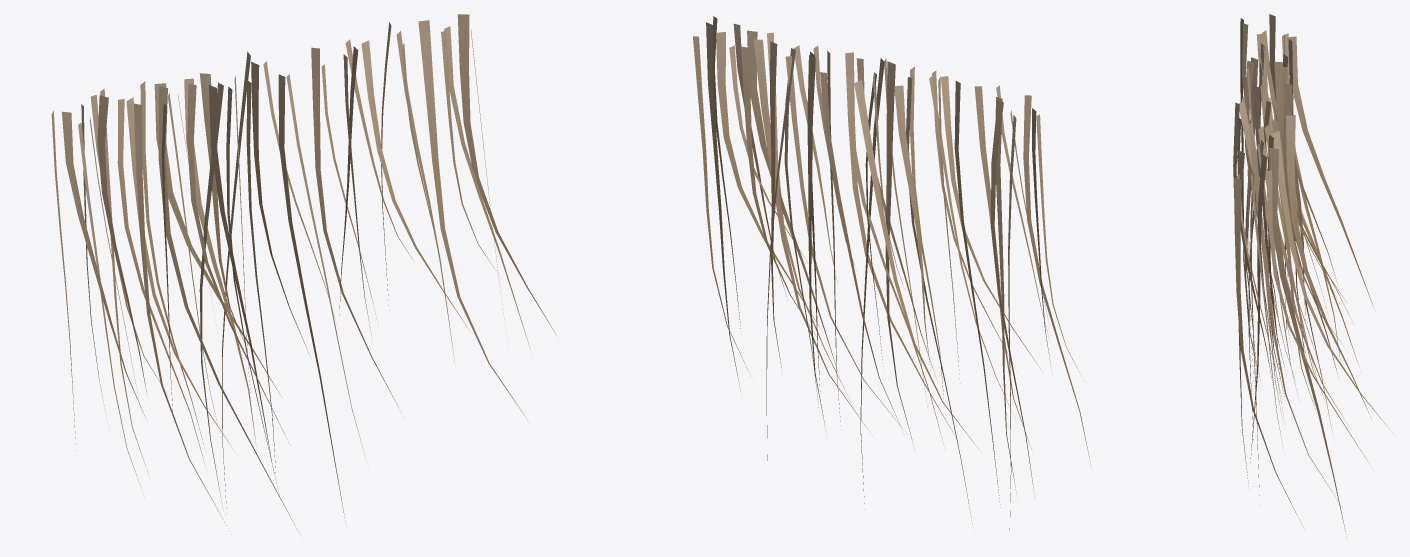
The model's file is mesh-plant-041-silverfall-veil_LOD1.glb.
The picture shows the model from 3 angles, left to right: view 1: azimuth 30°, elevation 25°; view 2: azimuth 150°, elevation 25°; view 3: azimuth 270°, elevation 25°; orthographic projection. The views are drawn at different scales.
Visible parts, largest first — view 1: geometry_0; view 2: geometry_0; view 3: geometry_0.
Boxes of the visible parts, bbox=[...] form: geometry_0: bbox=[51, 14, 556, 531]; geometry_0: bbox=[693, 16, 1090, 530]; geometry_0: bbox=[1233, 14, 1392, 537].
Bounding box in the file's own units: 2.73 × 2.33 × 1.59.
